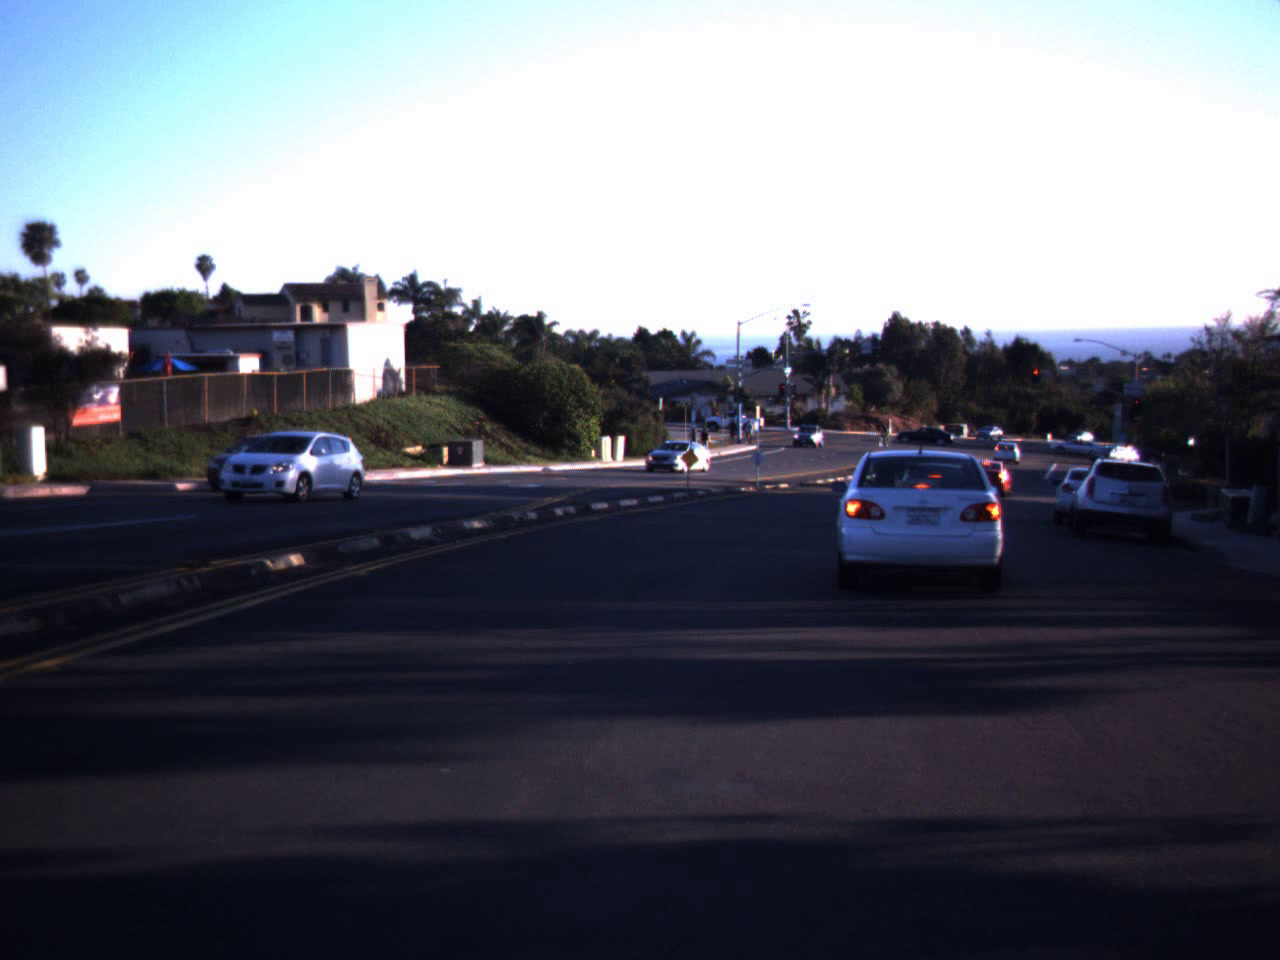stop: (1030, 368, 1042, 386)
